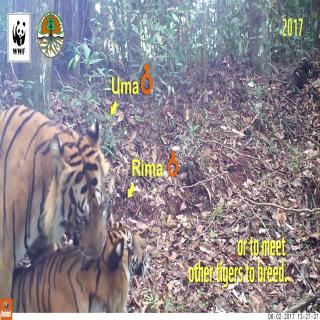Tiger: (0, 76, 111, 296), (15, 214, 154, 320)
